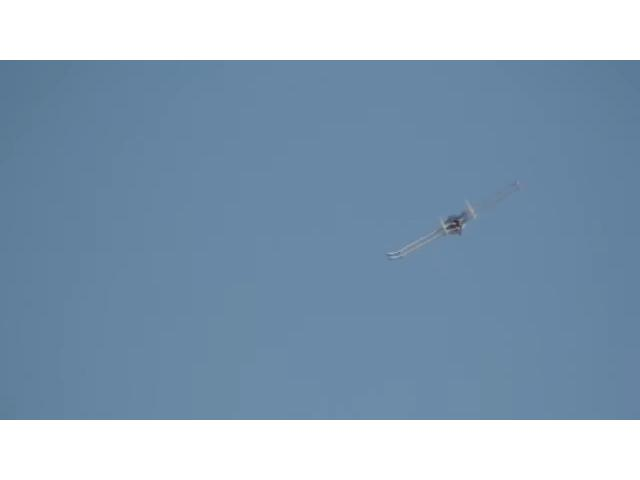Anti-Drone: (390, 183, 518, 261)
